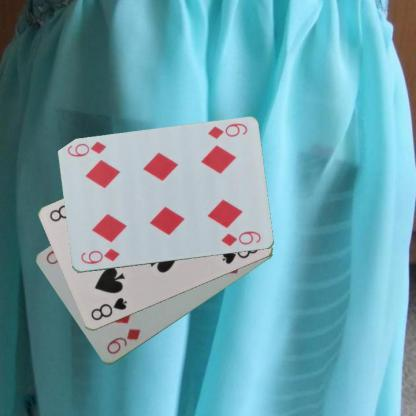6d: (78, 246, 121, 266), (205, 121, 249, 140)
8s: (88, 296, 128, 323)
9d: (104, 326, 142, 356)
